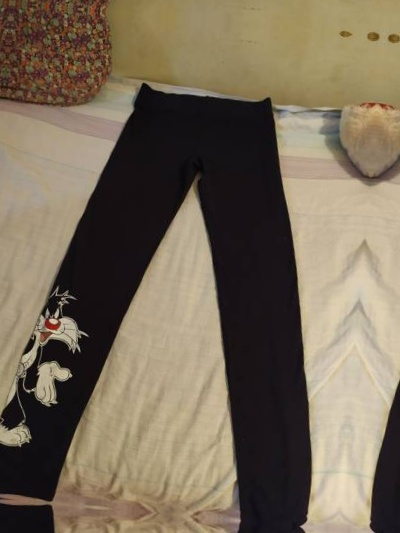Pants: (0, 44, 358, 523), (361, 80, 400, 533), (0, 502, 316, 533)
